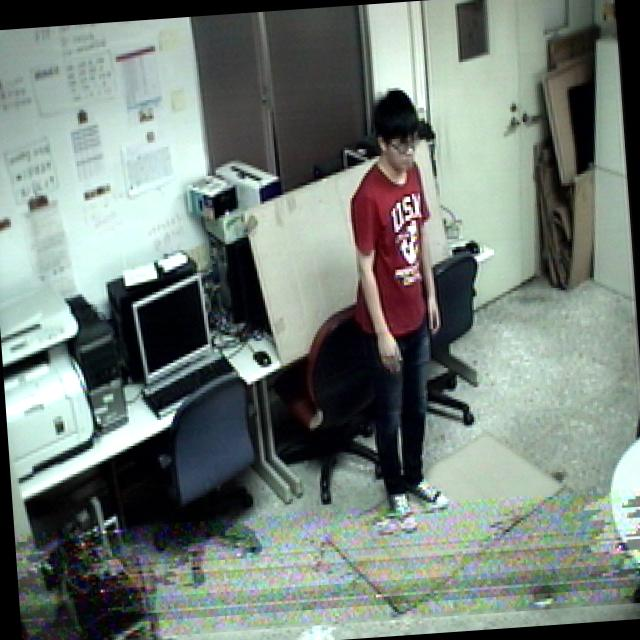stand: (328, 76, 471, 538)
